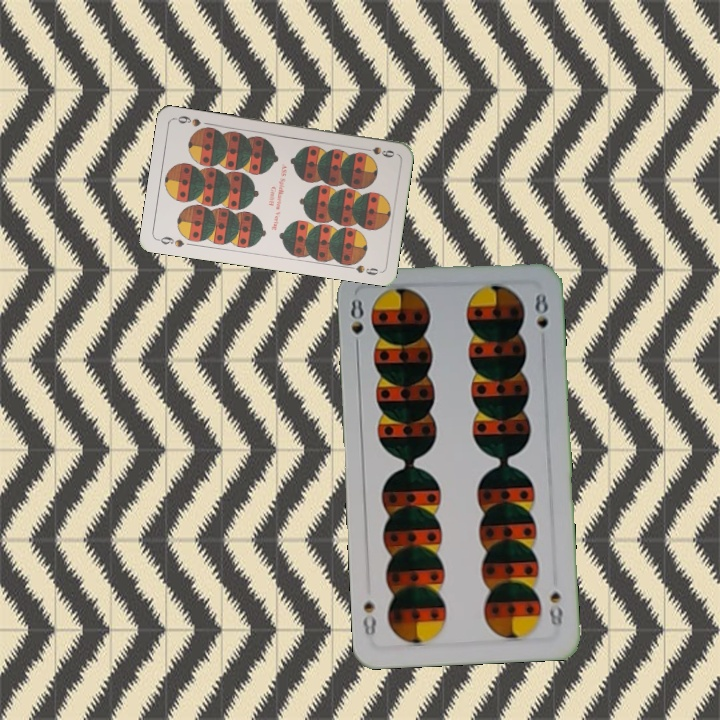S8: (346, 294, 366, 353), (545, 587, 566, 629)
S9: (357, 143, 397, 160), (154, 232, 187, 250)
